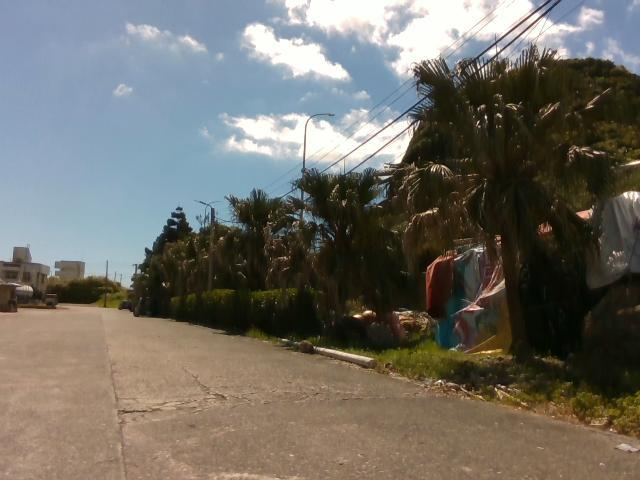pollute: (274, 187, 638, 371)
